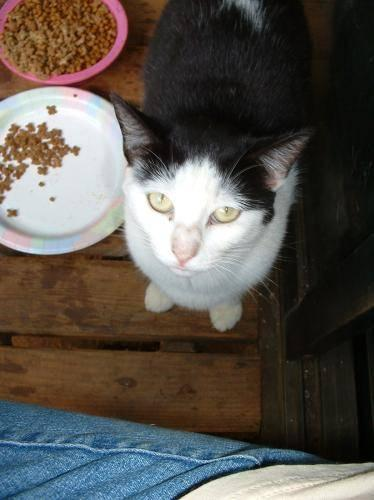cat: (110, 0, 313, 331)
